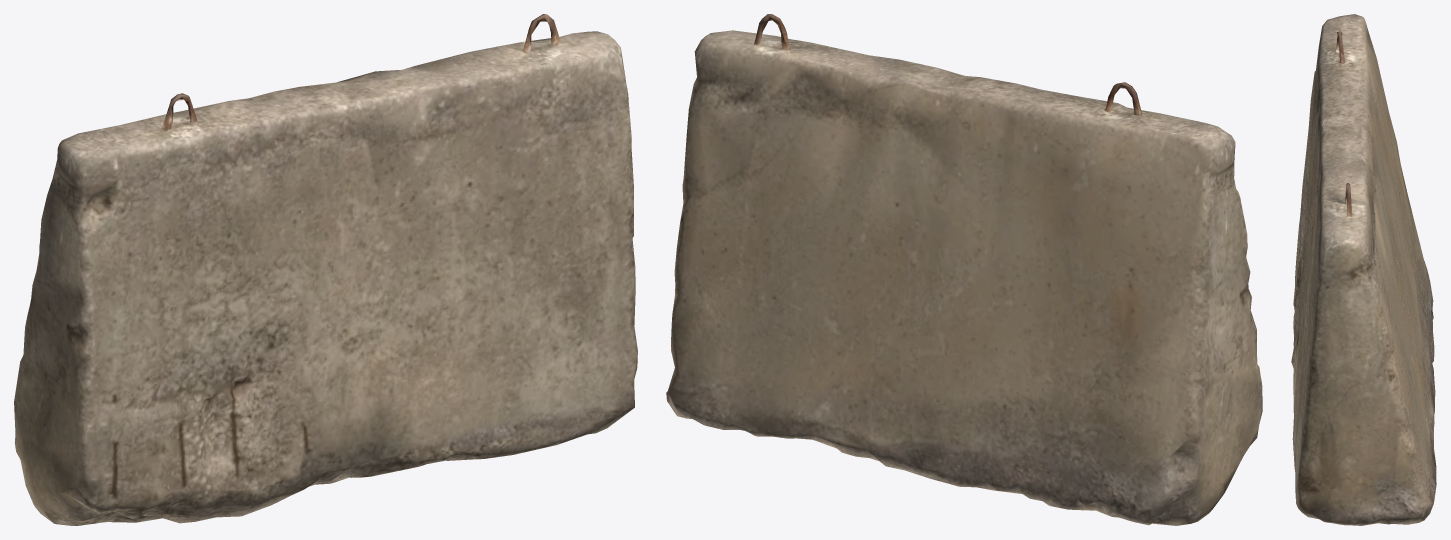
Rendered from concrete_barrier_02.glb.
The picture shows the model from 3 angles, left to right: view 1: azimuth 30°, elevation 25°; view 2: azimuth 150°, elevation 25°; view 3: azimuth 270°, elevation 25°; orthographic projection. The views are drawn at different scales.
Visible parts, largest first — view 1: concrete_road_barrier_02; view 2: concrete_road_barrier_02; view 3: concrete_road_barrier_02.
Boxes of the visible parts, x1,y1,x2,y2 form: concrete_road_barrier_02: (14,14,637,525); concrete_road_barrier_02: (666,14,1262,525); concrete_road_barrier_02: (1291,14,1436,525).
Bounding box in the file's own units: 1.56 × 1.11 × 0.4418.
1 material, 1 textured.
